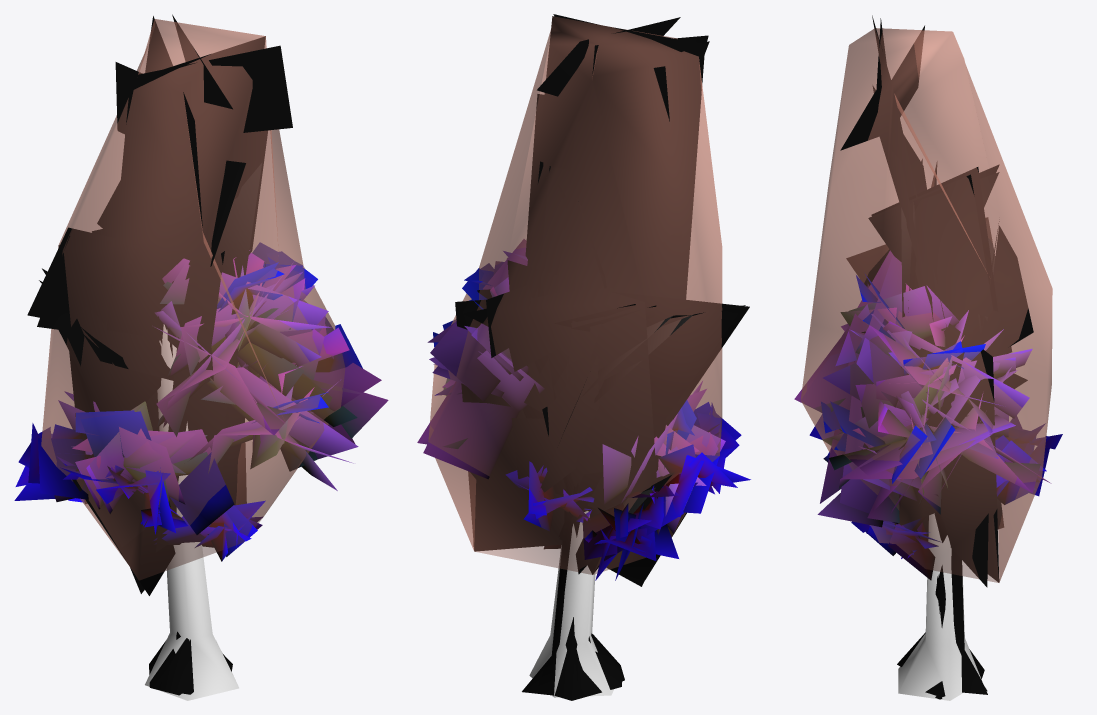
Rendered from tree_oak_dead_b.dae.
3 views of the same model, side by side, from view 1: azimuth 30°, elevation 25°; view 2: azimuth 150°, elevation 25°; view 3: azimuth 270°, elevation 25° (orthographic). The views are drawn at different scales.
Parts seen in each view (by area): view 1: Colmesh_dead_02-1, OakDead_02_a900, OakDead_02_a200; view 2: Colmesh_dead_02-1, OakDead_02_a200, OakDead_02_a900; view 3: Colmesh_dead_02-1, OakDead_02_a900, OakDead_02_a200.
Part boxes in pixels (left/top/right/bottom): Colmesh_dead_02-1: left=41, top=19, right=345, bottom=700; OakDead_02_a900: left=15, top=14, right=388, bottom=695; OakDead_02_a200: left=14, top=16, right=381, bottom=694; Colmesh_dead_02-1: left=428, top=16, right=722, bottom=697; OakDead_02_a200: left=423, top=16, right=750, bottom=696; OakDead_02_a900: left=417, top=14, right=739, bottom=700; Colmesh_dead_02-1: left=800, top=28, right=1052, bottom=700; OakDead_02_a900: left=794, top=18, right=1062, bottom=699; OakDead_02_a200: left=801, top=15, right=1051, bottom=697.
Size of the model in its own units: 4.5 by 3.57 by 8.7.
